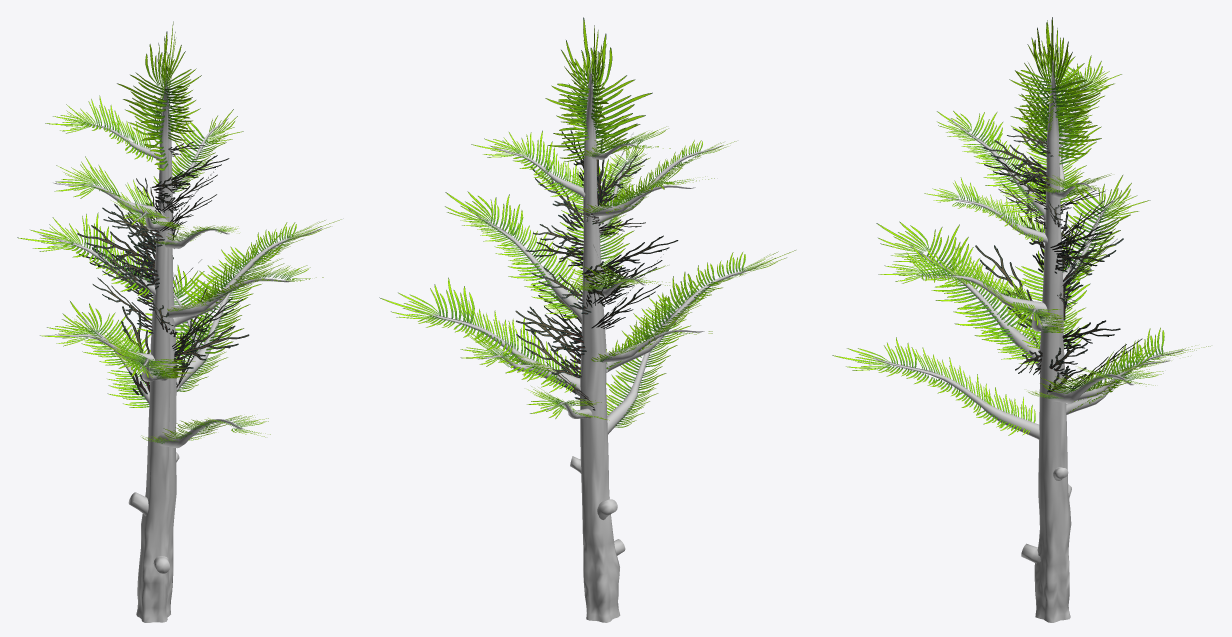
Rendered from tree_straight1.obj.
The picture shows the model from 3 angles, left to right: view 1: azimuth 30°, elevation 25°; view 2: azimuth 150°, elevation 25°; view 3: azimuth 270°, elevation 25°; orthographic projection. The views are drawn at different scales.
Visible parts, largest first — view 1: Tree_0.089, Tree_0.092, Tree_0.097, Tree_0.093, Plane.382, Plane.351, Tree_0.091, Plane.355, Plane.354, Plane.380, Tree_0.099, Plane.320 (+4 smaller); view 2: Tree_0.089, Plane.366, Tree_0.093, Tree_0.095, Plane.367, Tree_0.097, Tree_0.091, Plane.276, Plane.381, Plane.379; view 3: Tree_0.089, Tree_0.091, Tree_0.095, Tree_0.092, Plane.369, Plane.365, Plane.370, Plane.367, Tree_0.093, Plane.238, Plane.243, Plane.239 (+7 smaller).
Part boxes in pixels (bbox=[...]): Tree_0.089: bbox=[136, 69, 176, 622]; Tree_0.092: bbox=[167, 278, 292, 317]; Tree_0.097: bbox=[173, 227, 322, 327]; Tree_0.093: bbox=[176, 257, 262, 391]; Plane.382: bbox=[173, 325, 249, 375]; Plane.351: bbox=[117, 72, 167, 116]; Tree_0.091: bbox=[155, 419, 243, 448]; Plane.355: bbox=[77, 225, 154, 277]; Plane.354: bbox=[145, 31, 185, 85]; Plane.380: bbox=[121, 306, 149, 395]; Tree_0.099: bbox=[52, 182, 166, 218]; Plane.320: bbox=[82, 212, 112, 261]; Tree_0.089: bbox=[580, 64, 620, 622]; Plane.366: bbox=[583, 75, 652, 138]; Tree_0.093: bbox=[415, 310, 580, 395]; Tree_0.095: bbox=[606, 264, 762, 372]; Plane.367: bbox=[561, 17, 612, 95]; Tree_0.097: bbox=[467, 208, 582, 322]; Tree_0.091: bbox=[607, 298, 688, 434]; Plane.276: bbox=[430, 277, 474, 323]; Plane.381: bbox=[516, 310, 586, 355]; Plane.379: bbox=[515, 306, 581, 377]; Tree_0.089: bbox=[1034, 59, 1071, 622]; Tree_0.091: bbox=[871, 357, 1039, 439]; Tree_0.095: bbox=[905, 241, 1039, 371]; Tree_0.092: bbox=[915, 274, 1047, 314]; Plane.369: bbox=[1051, 80, 1100, 117]; Plane.365: bbox=[975, 245, 1041, 327]; Plane.370: bbox=[1058, 121, 1101, 158]; Plane.367: bbox=[1033, 17, 1072, 89]; Tree_0.093: bbox=[1048, 374, 1134, 403]; Plane.238: bbox=[925, 224, 968, 272]; Plane.243: bbox=[953, 306, 1006, 339]; Plane.239: bbox=[876, 221, 929, 253].
Bounding box in the file's own units: 12.06 × 23.23 × 13.41.
